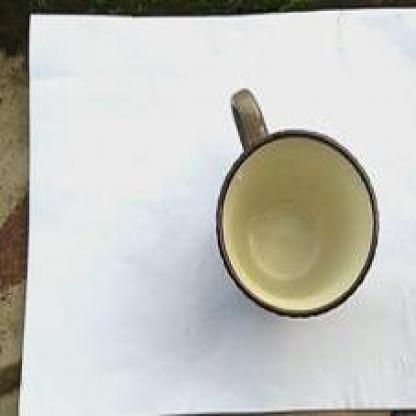mug: (204, 105, 416, 339)
